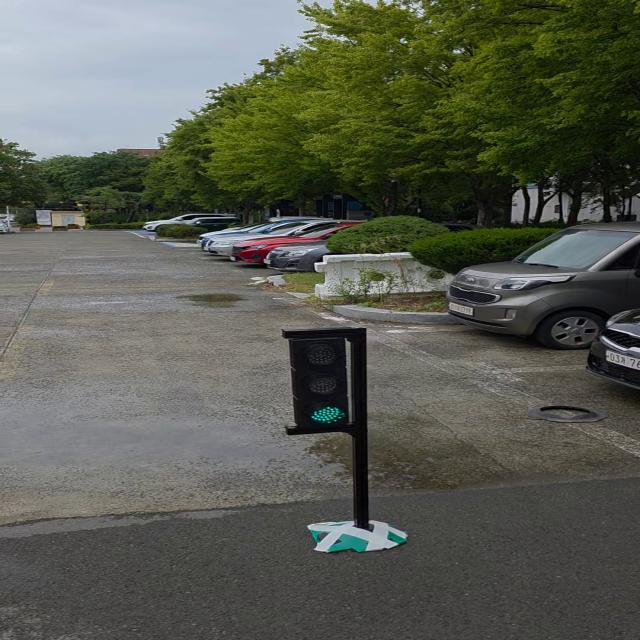green: (292, 334, 363, 431)
